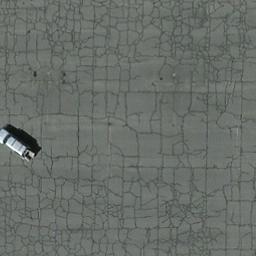car: (0, 127, 33, 159)
